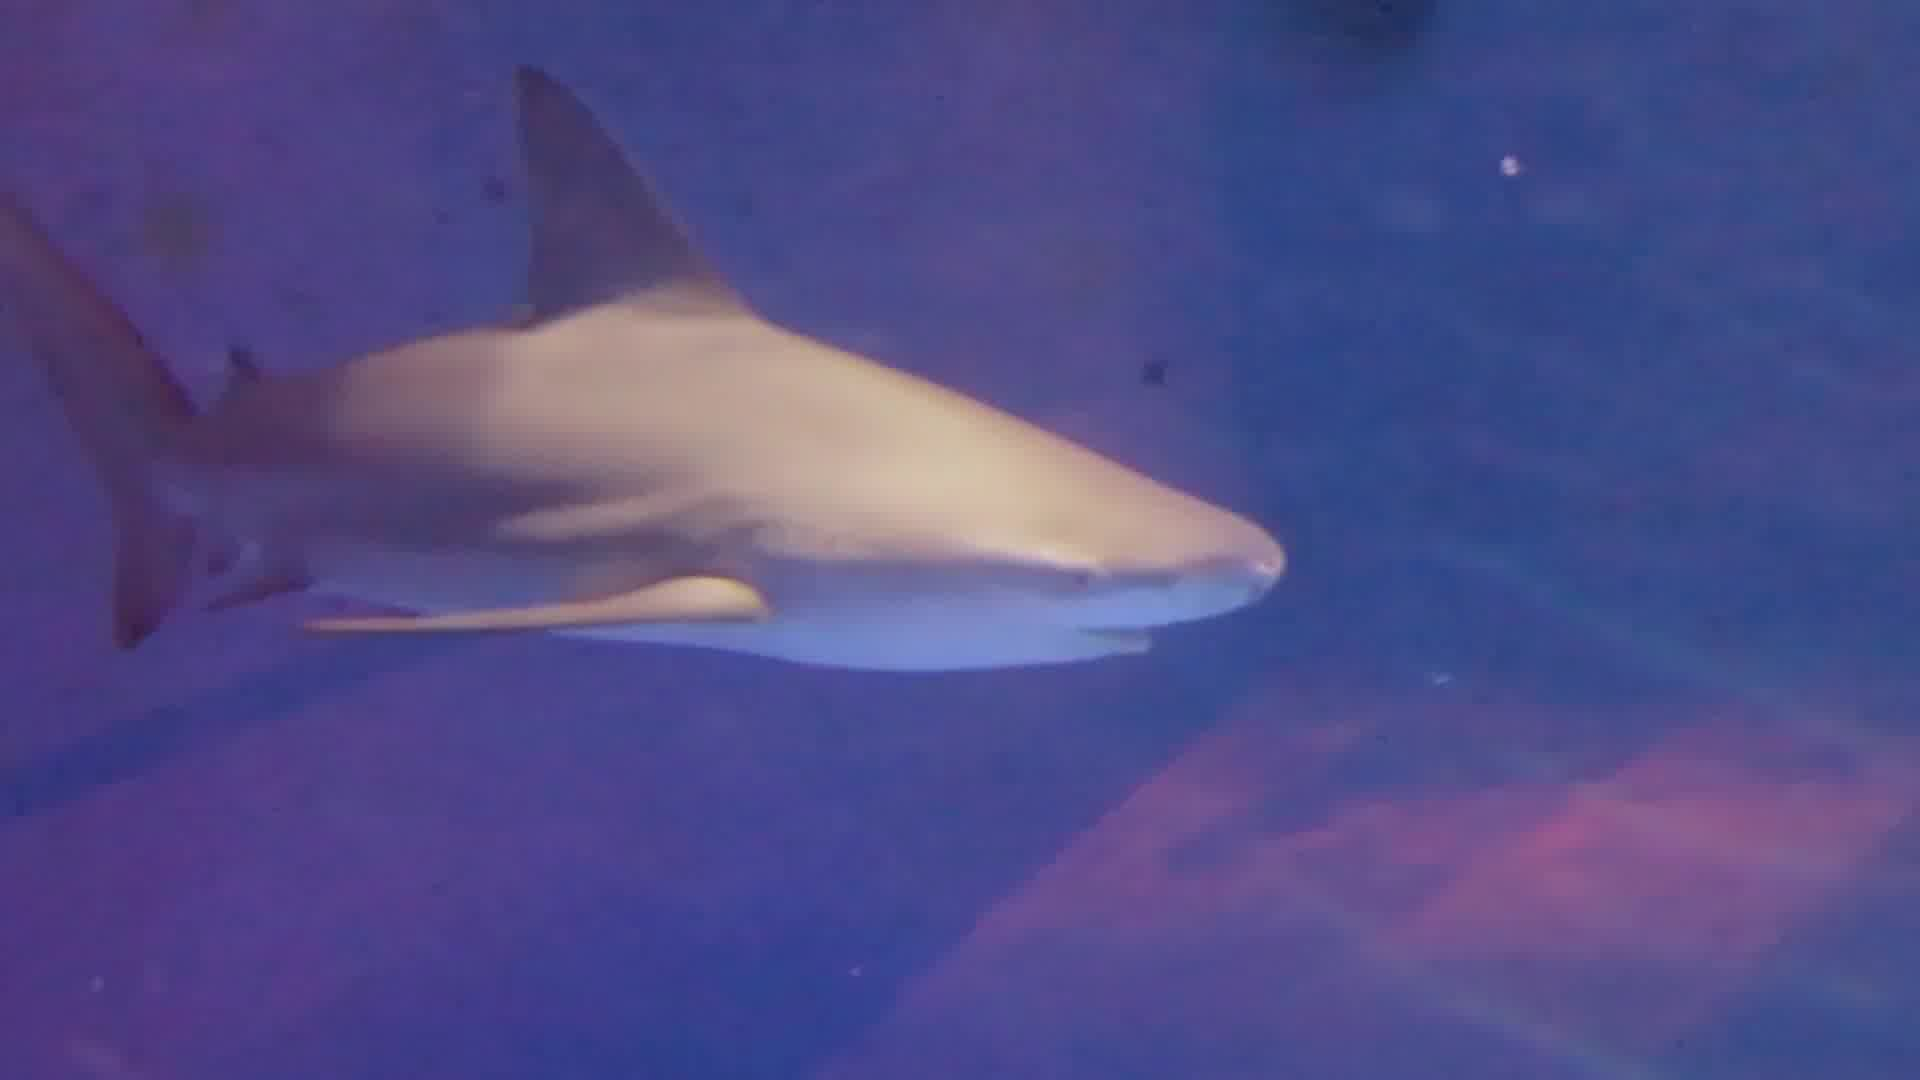Carcharhinus leucas: (17, 80, 1303, 727)
